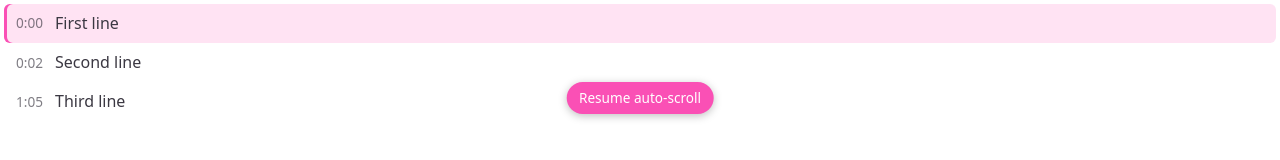
Test case: TranscriptPanel › scrolling the panel shows a button that resumes auto-scroll
Step 1. Click the button "Resume auto-scroll" → click(640, 98), box [567,82,713,114]
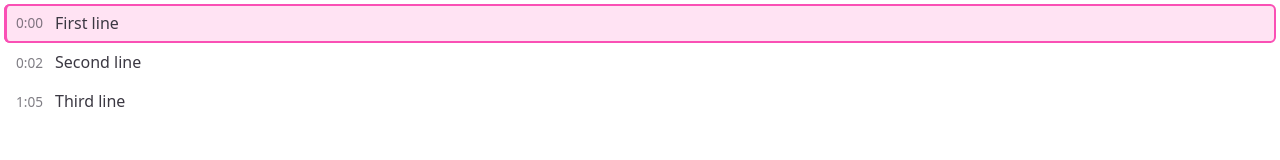
Now the button "Resume auto-scroll" is gone
